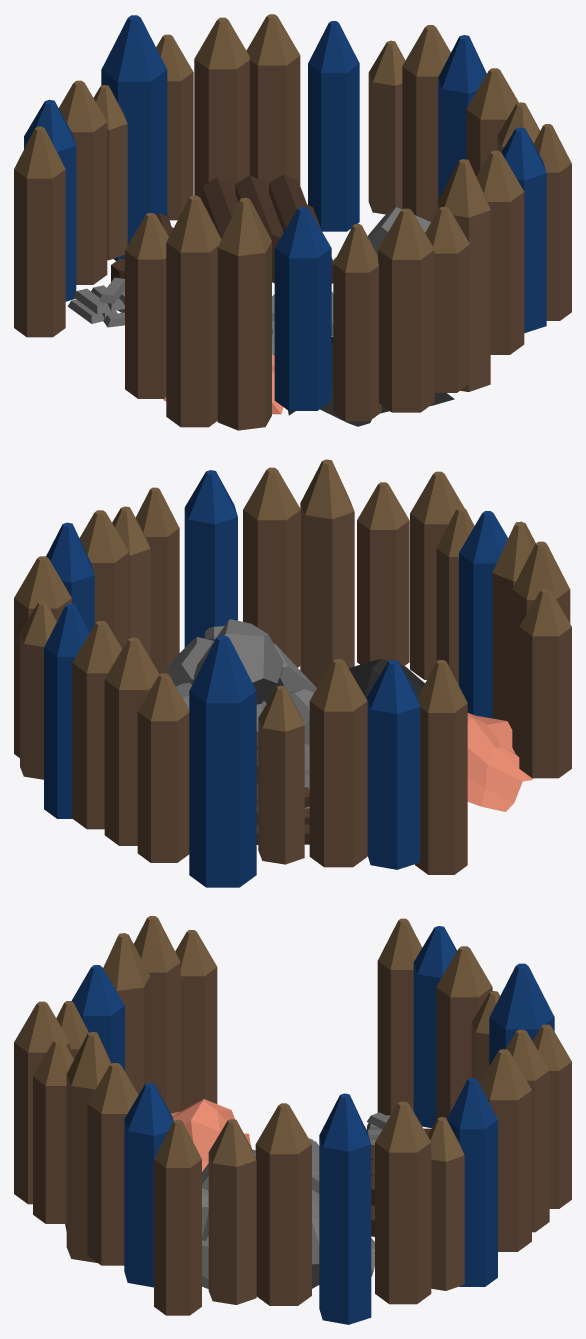
The model's file is Storage LvL 2.fbx.
3 views of the same model, one above another, from view 1: azimuth 30°, elevation 25°; view 2: azimuth 150°, elevation 25°; view 3: azimuth 270°, elevation 25° (orthographic). The views are drawn at different scales.
Parts seen in each view (by area): view 1: Wood Logs.001, Team Color Obj+; view 2: Wood Logs.001, Team Color Obj+; view 3: Wood Logs.001, Team Color Obj+.
Boxes of the visible parts, x1,y1,x2,y2 form: Wood Logs.001: [14, 14, 571, 430]; Team Color Obj+: [24, 15, 546, 410]; Wood Logs.001: [14, 459, 571, 874]; Team Color Obj+: [44, 470, 508, 887]; Wood Logs.001: [14, 916, 571, 1315]; Team Color Obj+: [71, 926, 554, 1324].
Bounding box in the file's own units: 172 × 95.62 × 190.
